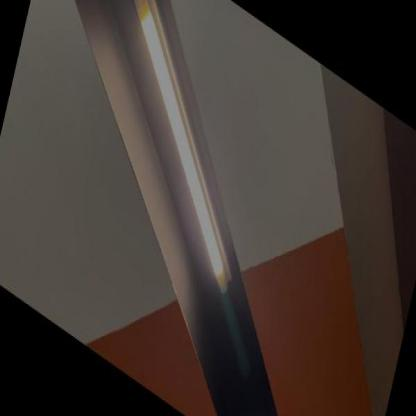light_on: (66, 0, 294, 338)
